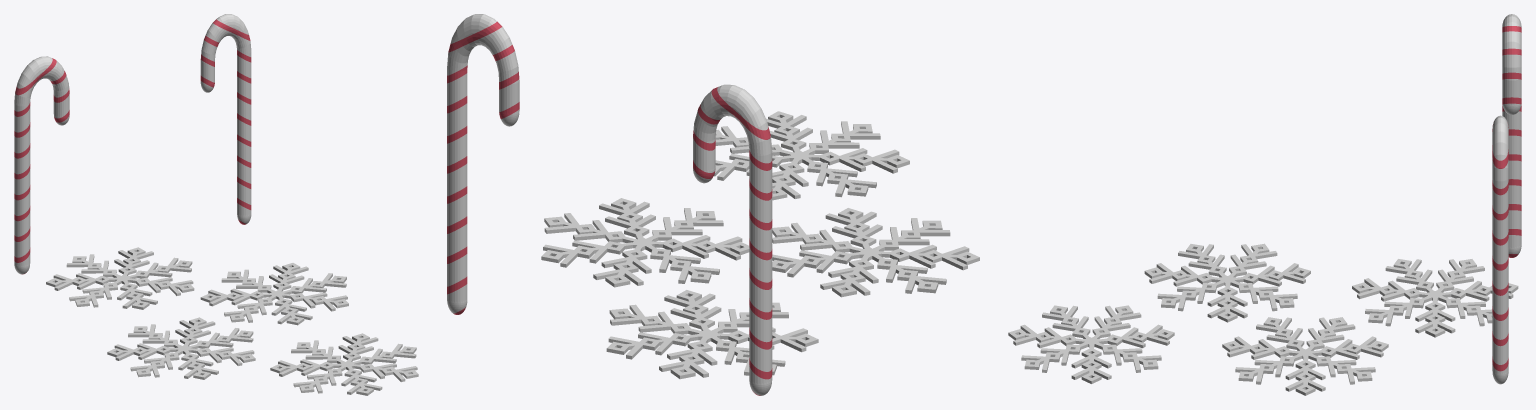
Rendered from entryway.glb.
The picture shows the model from 3 angles, left to right: view 1: azimuth 30°, elevation 25°; view 2: azimuth 150°, elevation 25°; view 3: azimuth 270°, elevation 25°; orthographic projection. The views are drawn at different scales.
Parts seen in each view (by area): view 1: Mesh_Mesh_head_geo.001_lambert2SG.001; view 2: Mesh_Mesh_head_geo.001_lambert2SG.001; view 3: Mesh_Mesh_head_geo.001_lambert2SG.001.
Boxes of the visible parts, x1,y1,x2,y2 form: Mesh_Mesh_head_geo.001_lambert2SG.001: (14, 14, 418, 395); Mesh_Mesh_head_geo.001_lambert2SG.001: (447, 14, 979, 395); Mesh_Mesh_head_geo.001_lambert2SG.001: (1008, 14, 1521, 395).
Size of the model in its own units: 0.109 by 0.087 by 0.1583.
